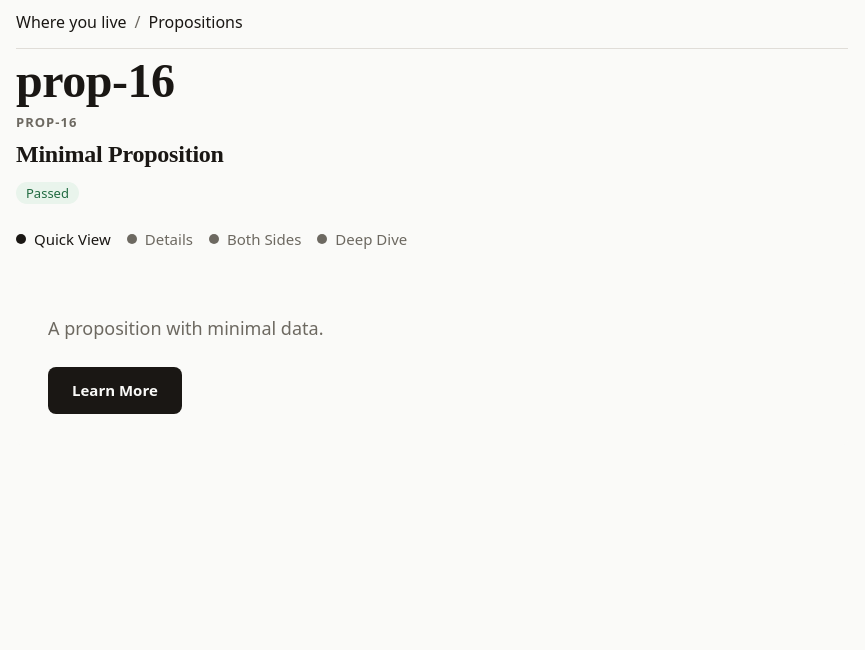
Test case: PropositionDetailPage › Layer 2 - Details › should show an analysis-pending placeholder when fullText is missing
The width and height of the screenshot is (865, 650).
Click the button "Learn More": (115, 391) [48, 367, 182, 414]
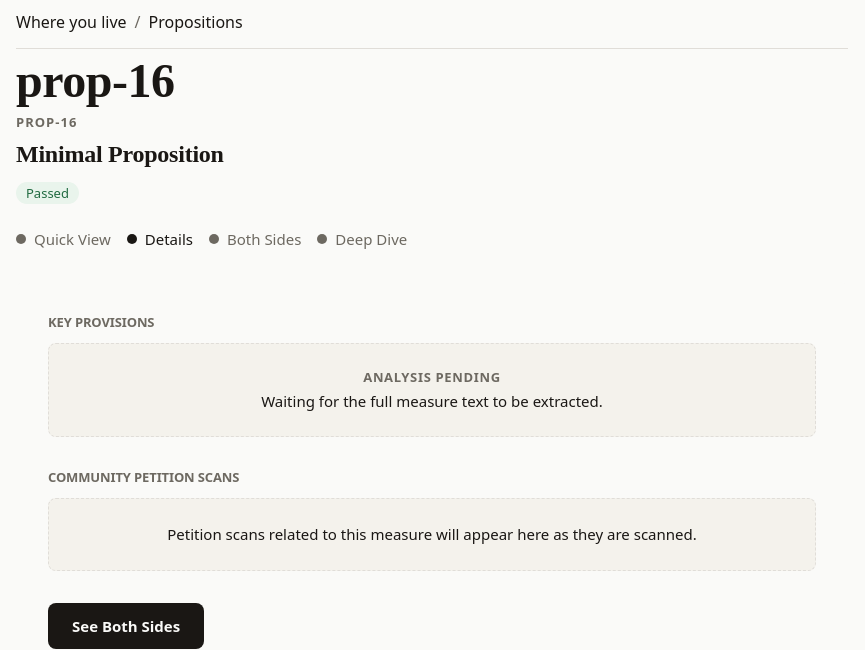
Now the text "Waiting for the full measure text to be extracted." is shown, box [261, 391, 603, 411]
